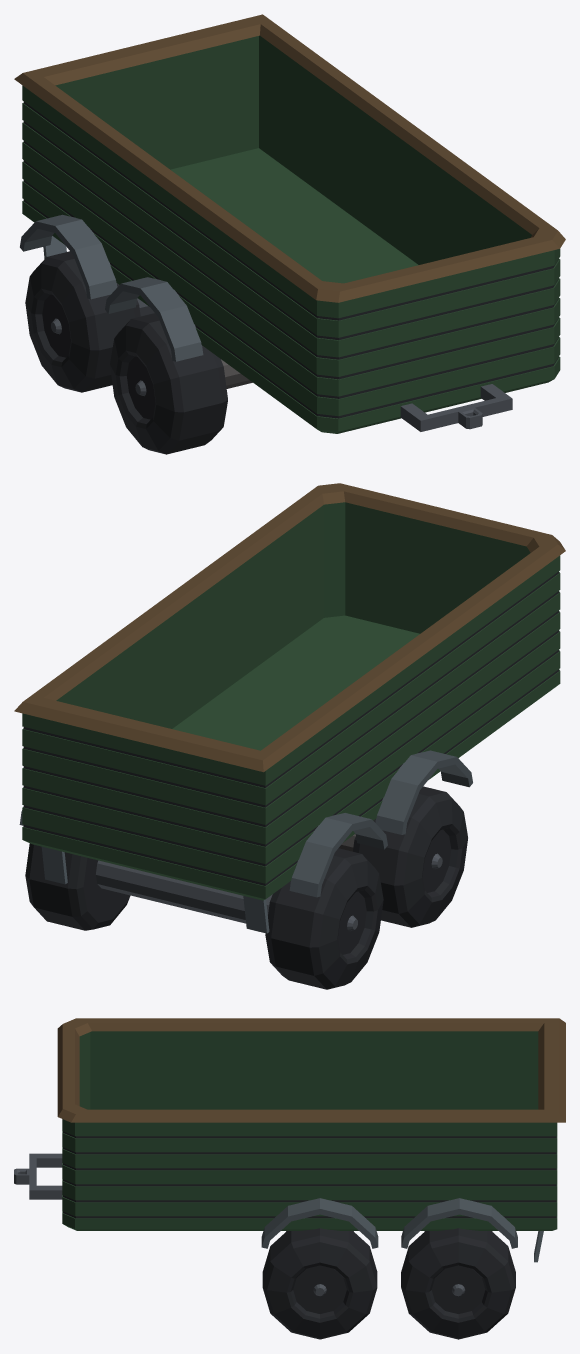
The model's file is Trailer_1.fbx.
3 renders of one model, top to bottom at view 1: azimuth 30°, elevation 25°; view 2: azimuth 150°, elevation 25°; view 3: azimuth 270°, elevation 25°, orthographic. The views are drawn at different scales.
Visible parts, largest first — view 1: Trailer_1, TrailerFrontWheels_1, TrailerBackWheels_1; view 2: Trailer_1, TrailerBackWheels_1, TrailerFrontWheels_1; view 3: Trailer_1, TrailerFrontWheels_1, TrailerBackWheels_1.
Boxes of the visible parts, <box> form: Trailer_1: <box>14,14,565,433</box>; TrailerFrontWheels_1: <box>110,313,227,454</box>; TrailerBackWheels_1: <box>25,251,140,392</box>; Trailer_1: <box>14,483,565,933</box>; TrailerBackWheels_1: <box>25,843,383,989</box>; TrailerFrontWheels_1: <box>353,786,467,927</box>; Trailer_1: <box>14,1018,565,1262</box>; TrailerFrontWheels_1: <box>262,1228,377,1339</box>; TrailerBackWheels_1: <box>401,1228,515,1339</box>.
Bounding box in the file's own units: 227 × 188 × 433.
